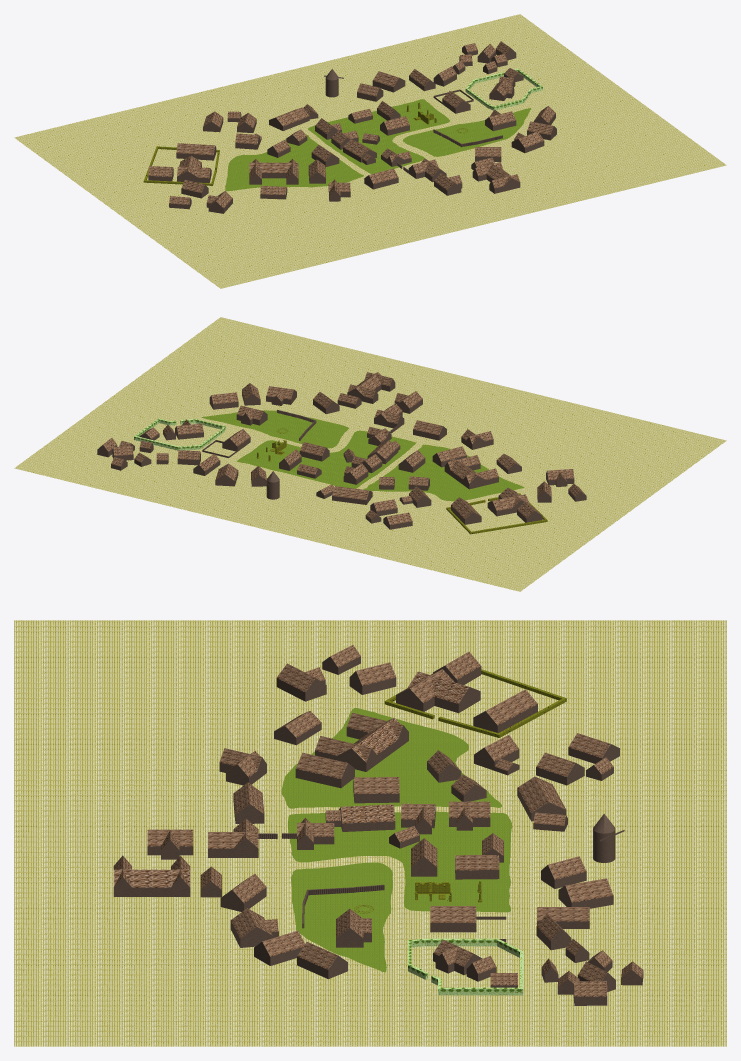
Rendered from Shamaham.dae.
The picture shows the model from 3 angles, top to bottom: view 1: azimuth 30°, elevation 25°; view 2: azimuth 150°, elevation 25°; view 3: azimuth 270°, elevation 25°; orthographic projection. The views are drawn at different scales.
Parts seen in each view (by area): view 1: Group1, Hütte (×7), Model; view 2: Group1, Hütte (×5), Model; view 3: Group1, Hütte (×41), Model.
Boxes of the visible parts, left/top/right/bottom form: Group1: left=14, top=14, right=726, bottom=288; Hütte (×7): left=176, top=71, right=544, bottom=189; Model: left=143, top=68, right=542, bottom=185; Group1: left=14, top=317, right=726, bottom=591; Hütte (×5): left=332, top=420, right=529, bottom=524; Model: left=134, top=418, right=547, bottom=534; Group1: left=14, top=620, right=726, bottom=1046; Hütte (×41): left=113, top=645, right=619, bottom=1005; Model: left=384, top=669, right=615, bottom=995.
Size of the model in its own units: 332 by 235 by 16.86.
